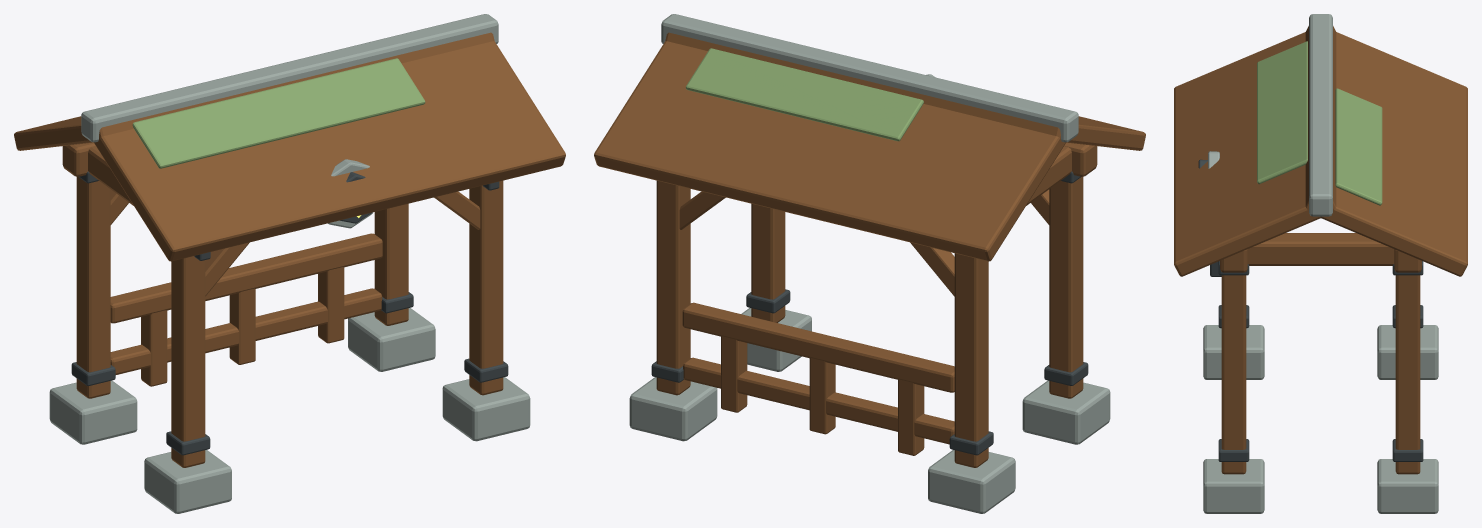
File: SM_EmbermereFenwatchShelter_01.fbx
3 views of the same model, side by side, from view 1: azimuth 30°, elevation 25°; view 2: azimuth 150°, elevation 25°; view 3: azimuth 270°, elevation 25° (orthographic). The views are drawn at different scales.
Visible parts, largest first — view 1: SM_EmbermereFenwatchShelter_01; view 2: SM_EmbermereFenwatchShelter_01; view 3: SM_EmbermereFenwatchShelter_01.
Boxes of the visible parts, x1=… form: SM_EmbermereFenwatchShelter_01: x1=14, y1=14, x2=565, y2=513; SM_EmbermereFenwatchShelter_01: x1=594, y1=14, x2=1145, y2=513; SM_EmbermereFenwatchShelter_01: x1=1174, y1=14, x2=1467, y2=513.
Size of what is drawn, in the model's own units: 438 by 297 by 370.
